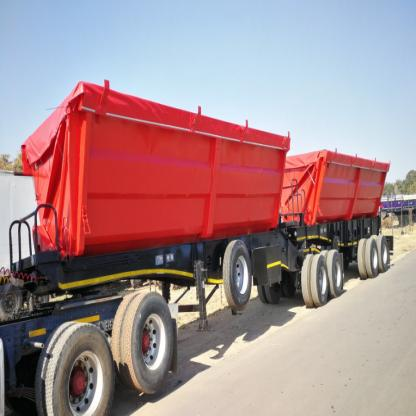dump_truck: (6, 75, 394, 416)
